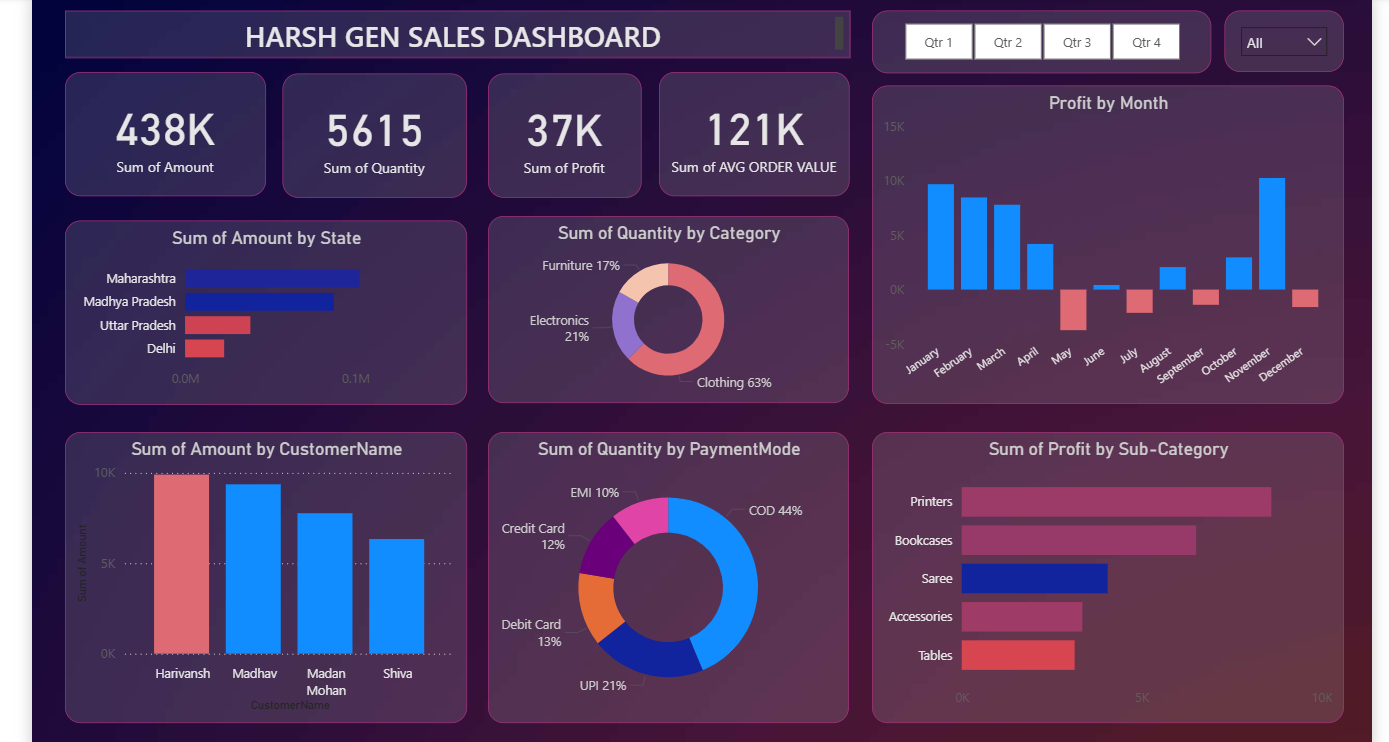

The dashboard page shown, as its layout file describes it:
{"tool":"powerbi","page":{"name":"Page 1","canvas":[1280,720],"ordinal":0},"visuals":[{"type":"textbox","box":[30.9,13,749.8,45.5],"z":0},{"type":"columnChart","title":"Profit by Month","fields":{"Category":["Orders.Order Date.Variation.Date Hierarchy.Month"],"Y":["Details.Profit"]},"box":[801.9,84.6,450.6,304.2],"z":1},{"type":"barChart","fields":{"Category":["Details.Sub-Category"],"Y":["Details.Profit"]},"box":[801.9,414.8,450.6,278.1],"z":2},{"type":"donutChart","fields":{"Category":["Details.Category"],"Y":["Details.Quantity"]},"box":[435.9,209.8,344.8,178.9],"z":3},{"type":"donutChart","fields":{"Y":["Details.Quantity"],"Category":["Details.PaymentMode"]},"box":[435.9,414.8,344.8,278.1],"z":4},{"type":"card","fields":{"Values":["Details.Amount"]},"box":[30.9,71.6,191.9,118.7],"z":5},{"type":"card","fields":{"Values":["Details.Quantity"]},"box":[239.1,73.2,175.7,118.7],"z":6},{"type":"card","fields":{"Values":["Details.Profit"]},"box":[435.9,73.2,146.4,118.7],"z":7},{"type":"card","fields":{"Values":["Details.AVG ORDER VALUE"]},"box":[598.6,71.6,182.2,118.7],"z":8},{"type":"barChart","fields":{"Y":["Details.Amount"],"Category":["Orders.State"]},"box":[30.9,213.1,383.9,175.7],"z":9},{"type":"columnChart","fields":{"Category":["Orders.CustomerName"],"Y":["Details.Amount"]},"box":[31,415,384,278],"z":10},{"type":"slicer","fields":{"Values":["Orders.Order Date.Variation.Date Hierarchy.Quarter"]},"box":[801.9,13,323.7,60.2],"z":11},{"type":"slicer","fields":{"Values":["Orders.State"]},"box":[1138.6,13,113.9,58.6],"z":12}]}

Visuals, with their boxes on the page's 1280x720 design canvas (x1, y1, x2, y2). These are canvas units, not pixel positions in the 1389x742 screenshot, which may show the page scaled, cropped or inside an application window:
textbox: pyautogui.locateOnScreen(31, 13, 781, 58)
"Profit by Month" columnChart: pyautogui.locateOnScreen(802, 85, 1252, 389)
barChart - Details.Sub-Category x Details.Profit: pyautogui.locateOnScreen(802, 415, 1252, 693)
donutChart - Details.Category x Details.Quantity: pyautogui.locateOnScreen(436, 210, 781, 389)
donutChart - Details.Quantity x Details.PaymentMode: pyautogui.locateOnScreen(436, 415, 781, 693)
card - Details.Amount: pyautogui.locateOnScreen(31, 72, 223, 190)
card - Details.Quantity: pyautogui.locateOnScreen(239, 73, 415, 192)
card - Details.Profit: pyautogui.locateOnScreen(436, 73, 582, 192)
card - Details.AVG ORDER VALUE: pyautogui.locateOnScreen(599, 72, 781, 190)
barChart - Details.Amount x Orders.State: pyautogui.locateOnScreen(31, 213, 415, 389)
columnChart - Orders.CustomerName x Details.Amount: pyautogui.locateOnScreen(31, 415, 415, 693)
slicer - Orders.Order Date.Variation.Date Hierarchy.Quarter: pyautogui.locateOnScreen(802, 13, 1126, 73)
slicer - Orders.State: pyautogui.locateOnScreen(1139, 13, 1252, 72)
